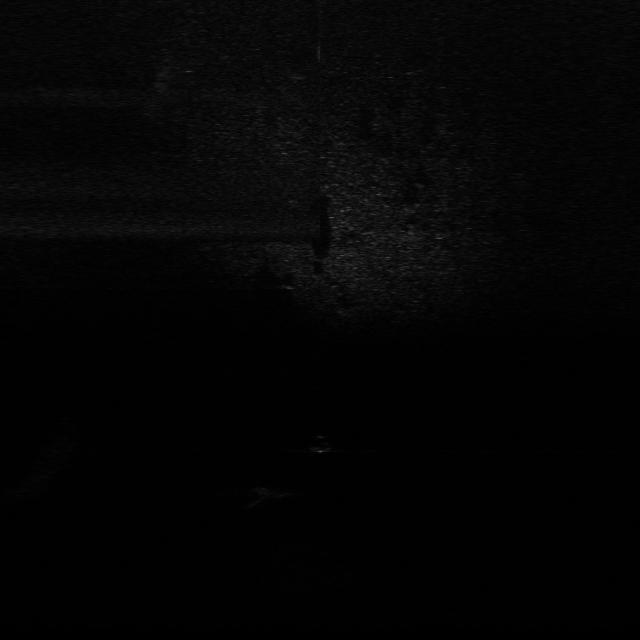ball: (307, 430, 337, 456)
square cage: (257, 480, 298, 500)
